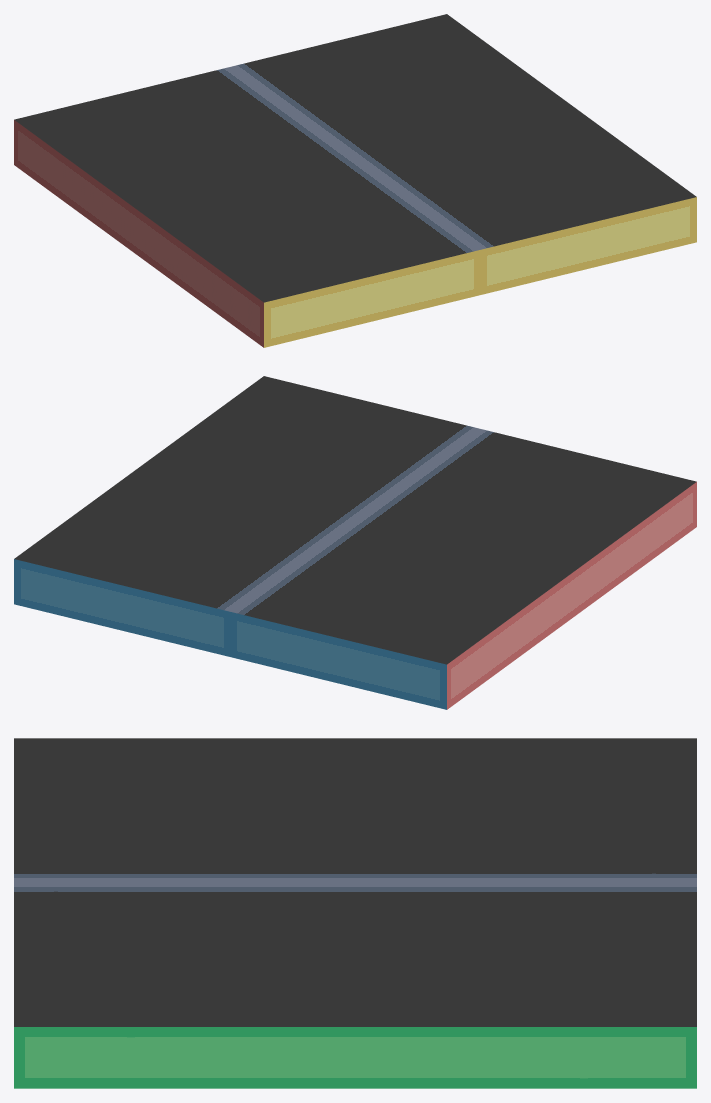
The model's file is Trapdoor.glb.
3 views of the same model, one above another, from view 1: azimuth 30°, elevation 25°; view 2: azimuth 150°, elevation 25°; view 3: azimuth 270°, elevation 25° (orthographic). The views are drawn at different scales.
Parts seen in each view (by area): view 1: Left, Right; view 2: Left, Right; view 3: Right, Left.
Part boxes in pixels (<box>): Left: <box>14,67,480,347</box>; Right: <box>231,14,696,294</box>; Left: <box>230,429,696,709</box>; Right: <box>14,376,479,656</box>; Right: <box>14,882,696,1088</box>; Left: <box>14,738,696,882</box>.
Bounding box in the file's own units: 2 × 0.2 × 2.
1 material, 1 textured.
